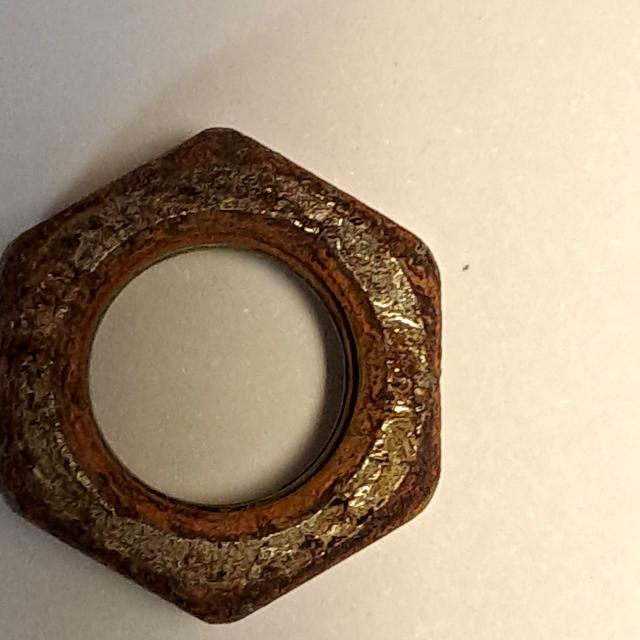Rust: (1, 105, 458, 639)
